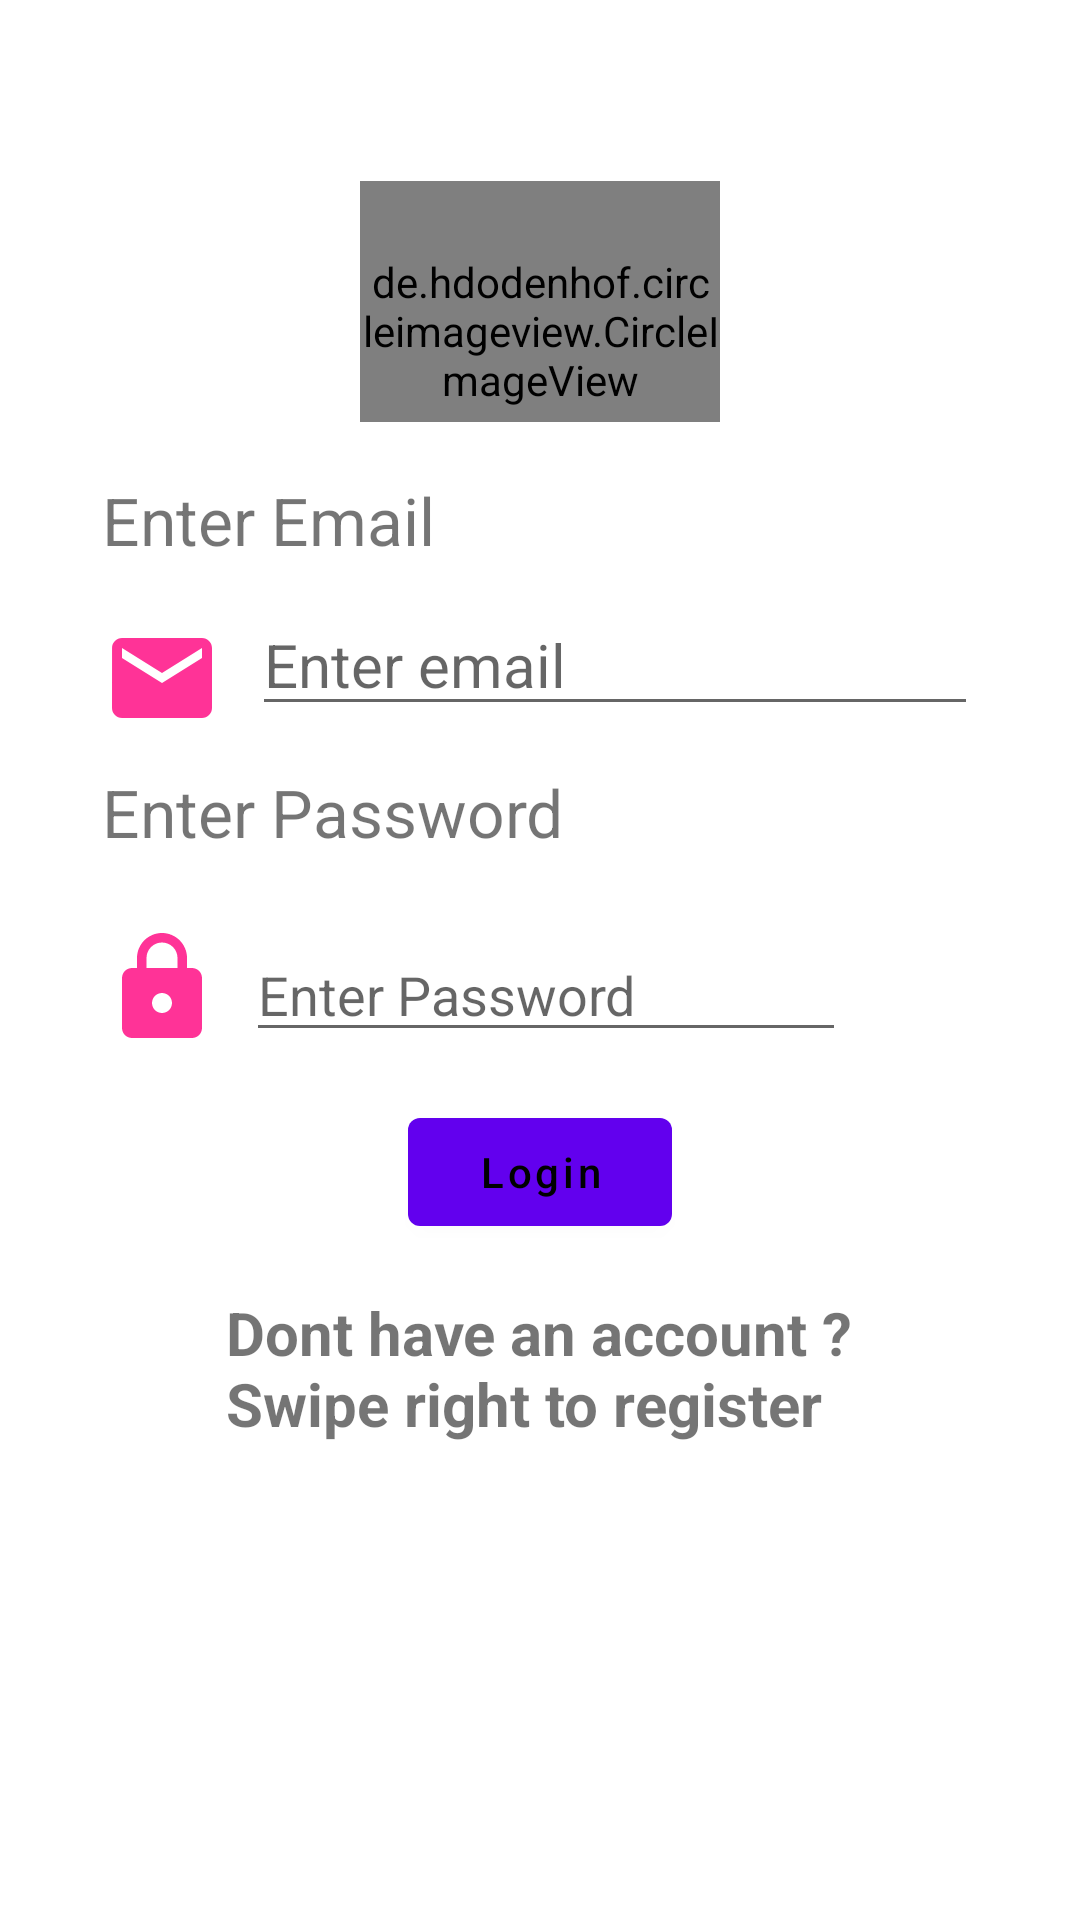

Icons on this 1080 × 1920 Android screen, each with its box as (left=x1, top=y1, right=x2, bottom=y2):
lock: (left=122, top=933, right=202, bottom=1038)
